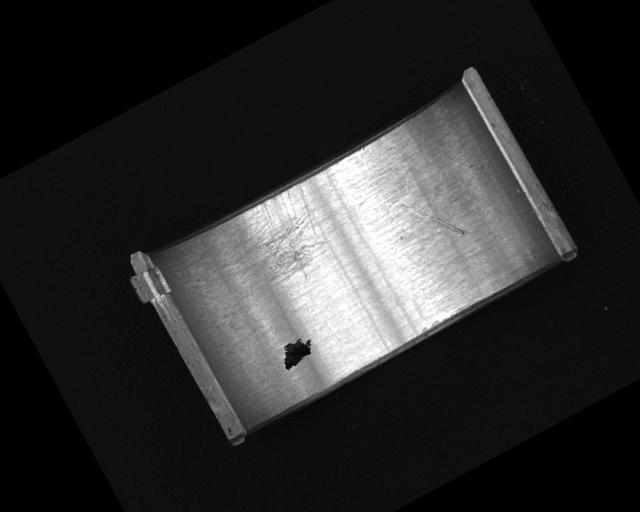blot: (274, 332, 320, 372)
nick: (402, 182, 469, 254)
scratch: (190, 179, 340, 317)
